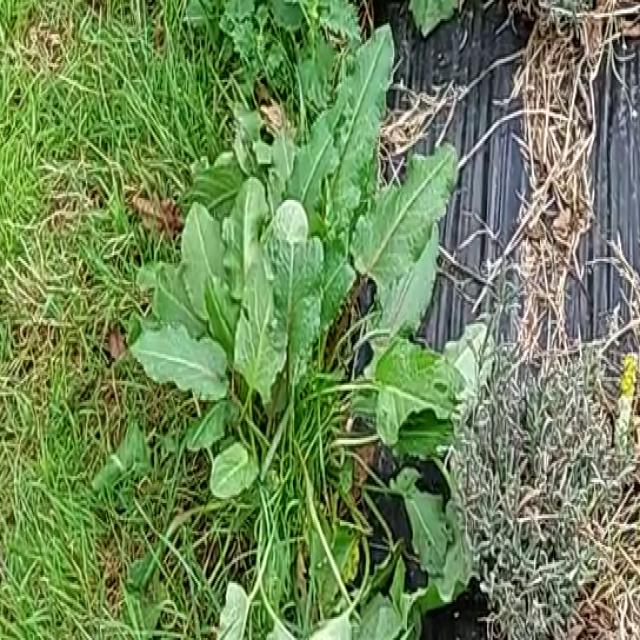organic waste: (142, 19, 470, 577)
